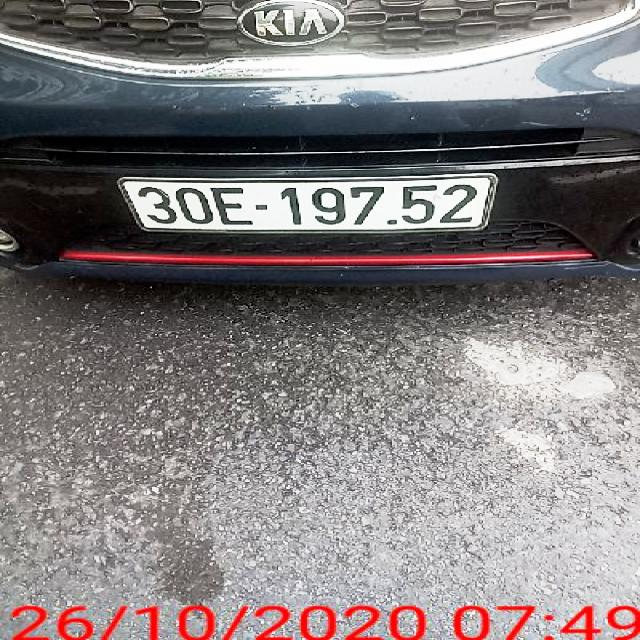license_plate: (118, 178, 496, 231)
